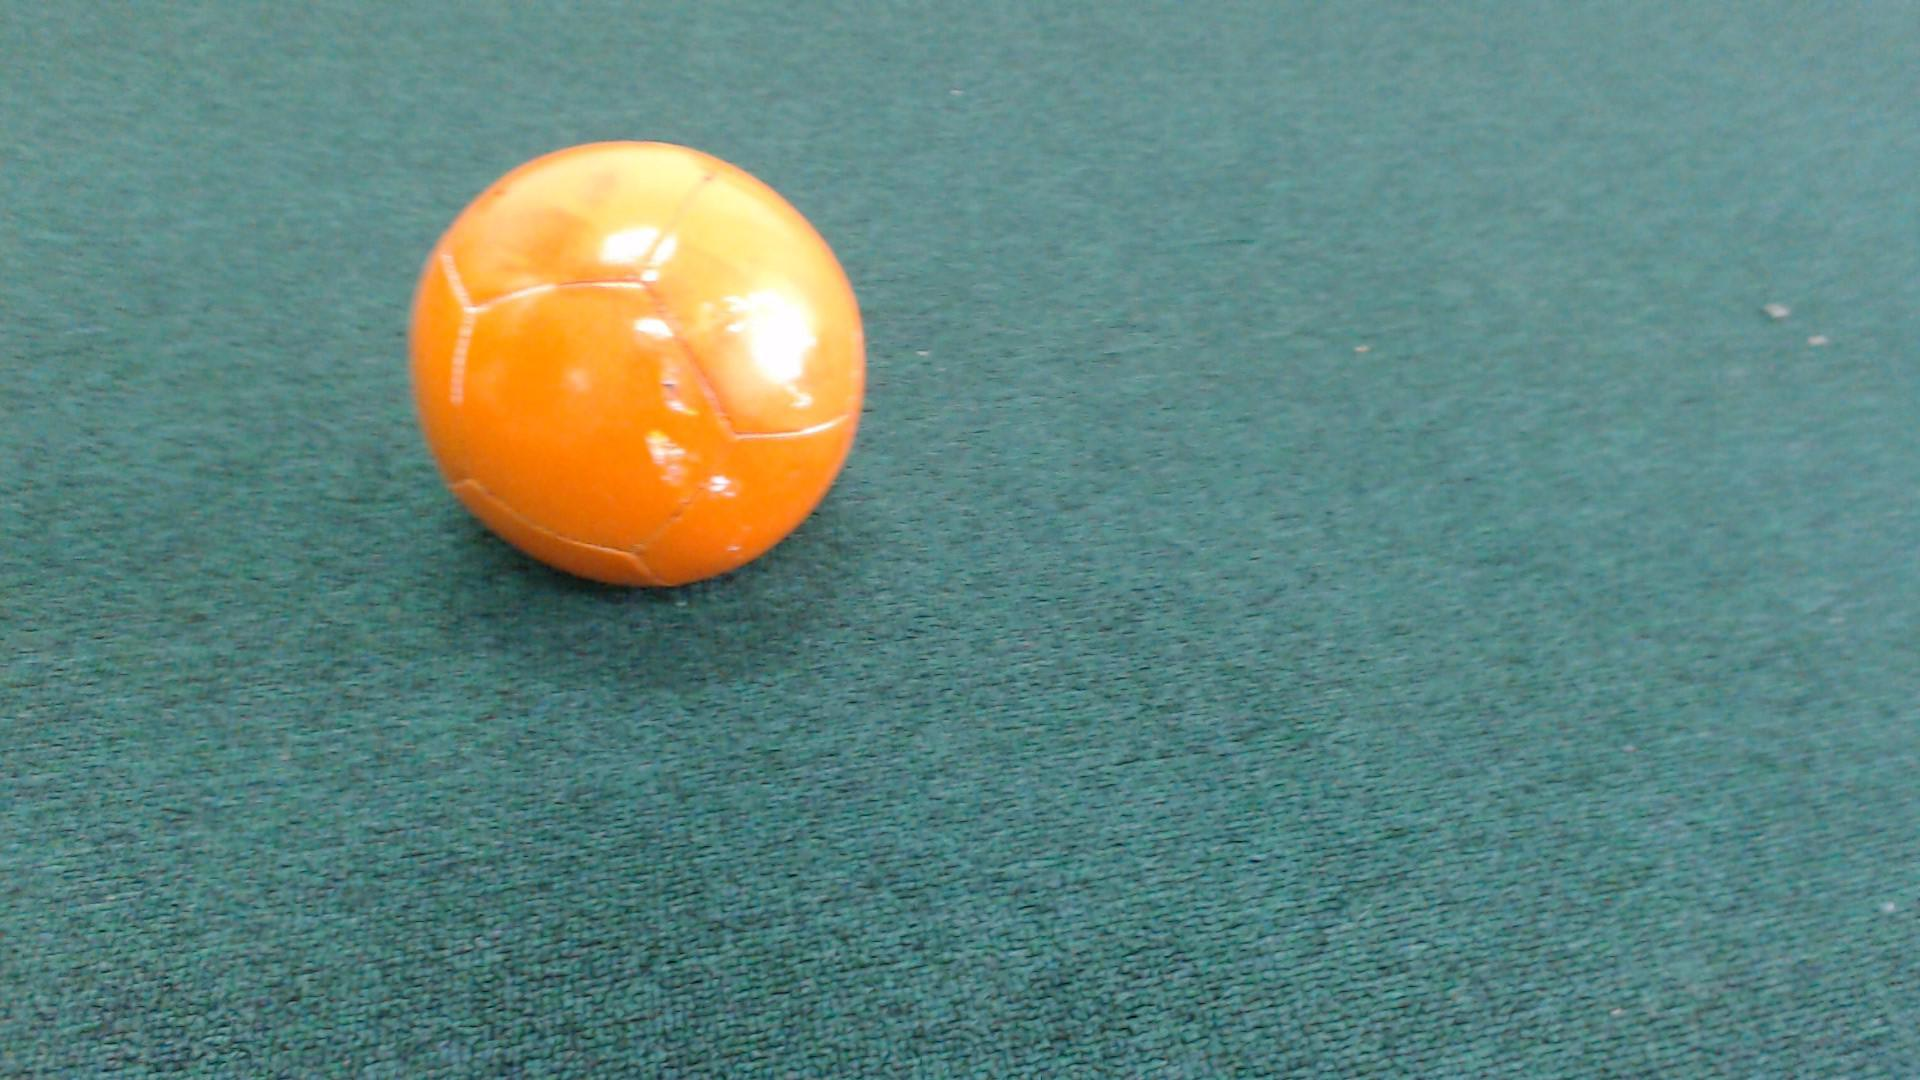bola: (381, 117, 881, 630)
